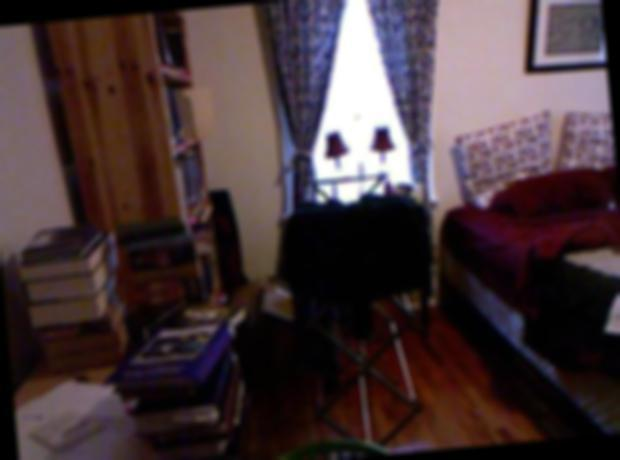Otro Obstaculo: (279, 166, 447, 459)
